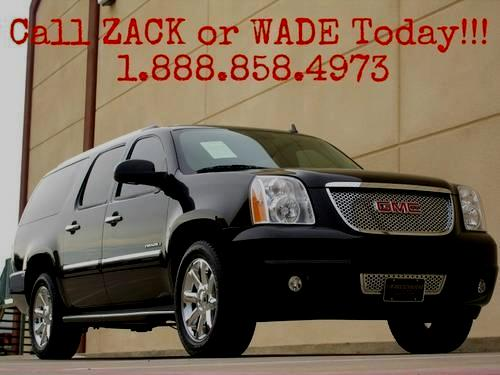GMC: (372, 196, 427, 217)
